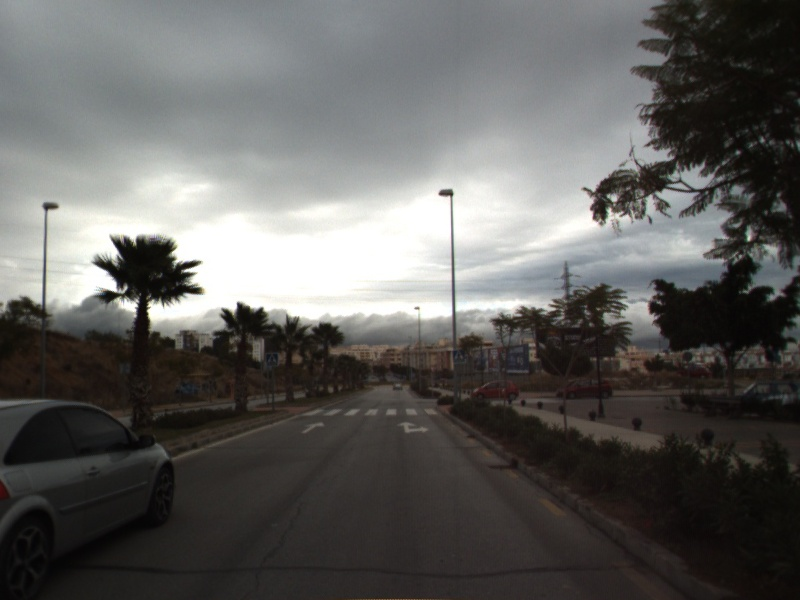STRAIGHT: (299, 420, 327, 435)
STRAIGHT_RIGHT: (395, 419, 431, 435)
